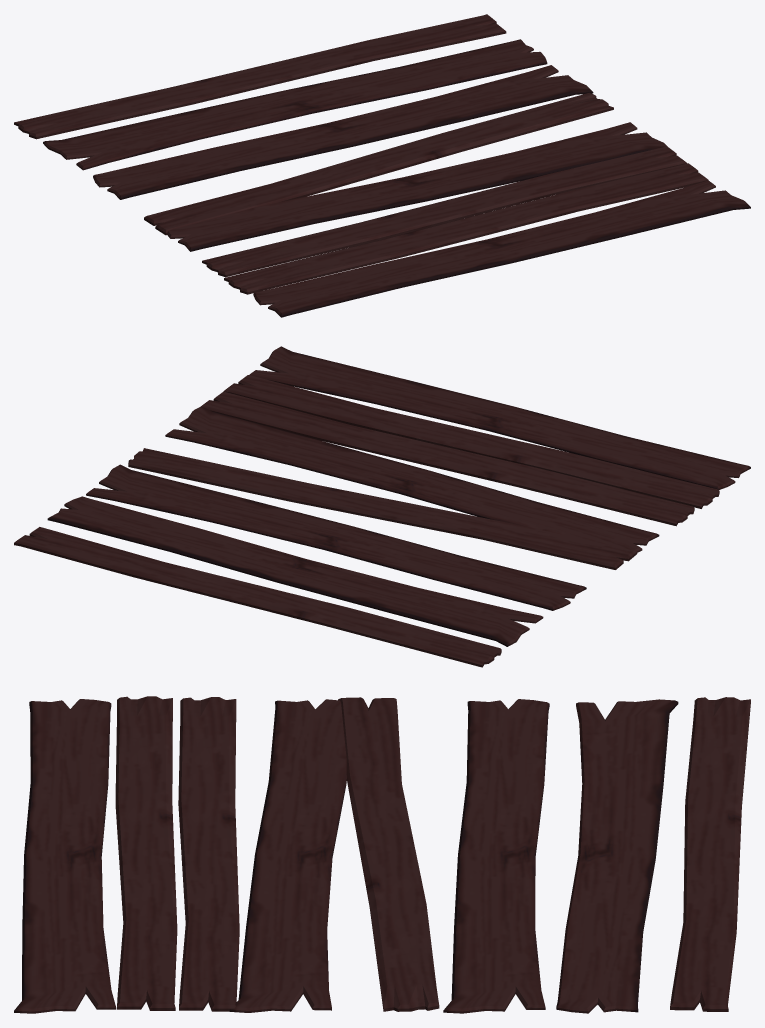
Rendered from MOD_PlankFloor_Block.fbx.
3 views of the same model, one above another, from view 1: azimuth 30°, elevation 25°; view 2: azimuth 150°, elevation 25°; view 3: azimuth 270°, elevation 25° (orthographic). The views are drawn at different scales.
Parts seen in each view (by area): view 1: MOD_PlankFloor_Block; view 2: MOD_PlankFloor_Block; view 3: MOD_PlankFloor_Block.
Boxes of the visible parts, x1,y1,x2,y2 form: MOD_PlankFloor_Block: [14, 14, 750, 317]; MOD_PlankFloor_Block: [14, 346, 750, 667]; MOD_PlankFloor_Block: [14, 696, 750, 1013].
Bounding box in the file's own units: 401 × 3.42 × 399.
Materials: 1 (1 with a texture image).
